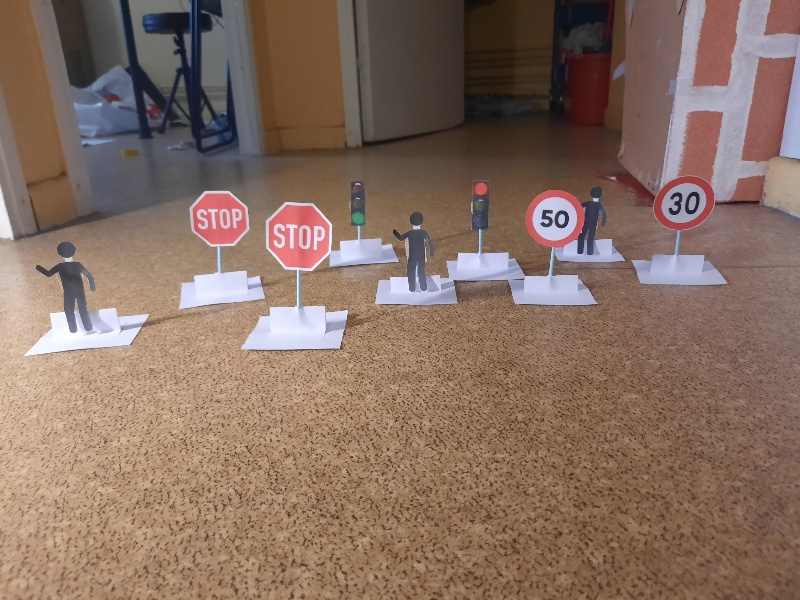Green: (349, 179, 365, 226)
Limit 30: (653, 178, 714, 228)
Limit 50: (527, 189, 581, 241)
Person: (35, 242, 99, 332), (393, 213, 434, 294), (573, 188, 610, 253)
Red: (471, 179, 487, 230)
Stop: (265, 201, 331, 270), (191, 191, 250, 247)
